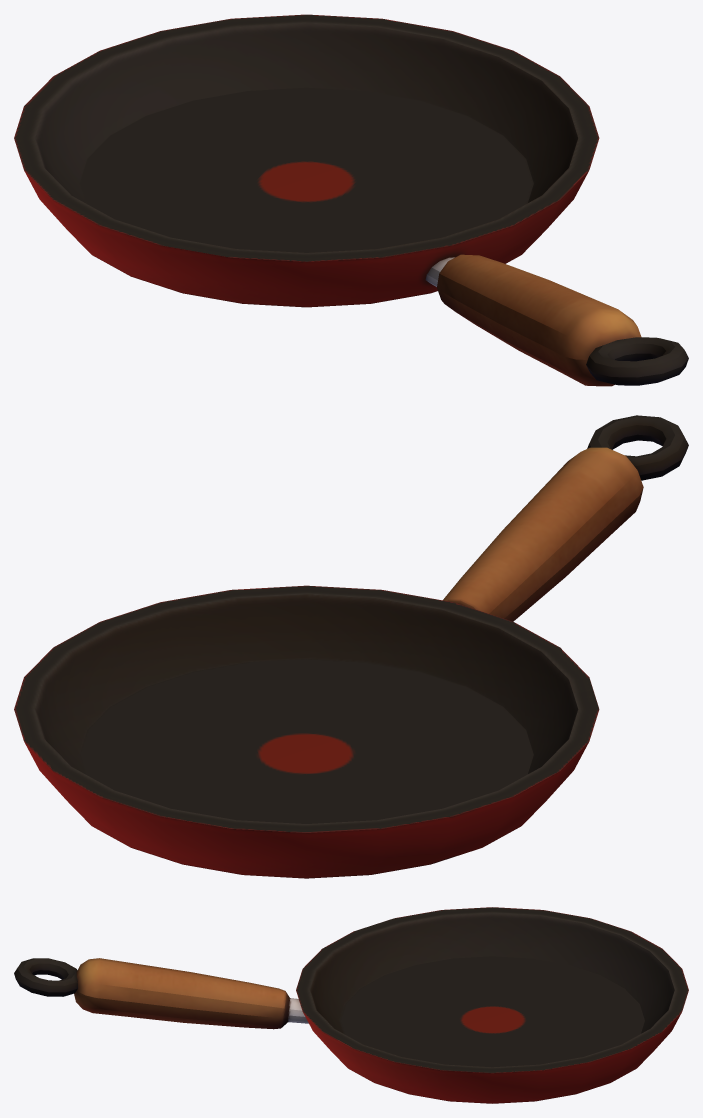
Rendered from Pan.fbx.
The picture shows the model from 3 angles, top to bottom: view 1: azimuth 30°, elevation 25°; view 2: azimuth 150°, elevation 25°; view 3: azimuth 270°, elevation 25°; orthographic projection. The views are drawn at different scales.
Parts seen in each view (by area): view 1: Fry_Pan; view 2: Fry_Pan; view 3: Fry_Pan.
Part boxes in pixels (x1,y1,x2,y2): Fry_Pan: [14, 14, 688, 386]; Fry_Pan: [14, 415, 688, 878]; Fry_Pan: [14, 907, 688, 1103].
Size of the model in its own units: 126 by 25.56 by 216.
